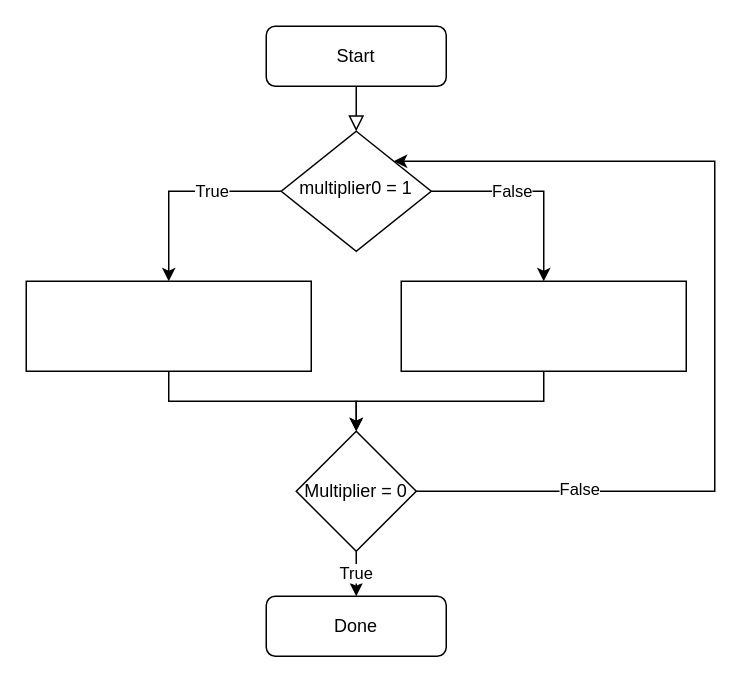
The diagram is 753 pixels wide and 683 high, and some of its shapes have lost their labels. Each missing label, with the centre of its shape:
Multiplicand << 1 Multiplier >> 1: (x=543, y=325)
Product = Product + Multiplicand Multiplicand << 1 Multiplier >> 1: (x=168, y=325)
